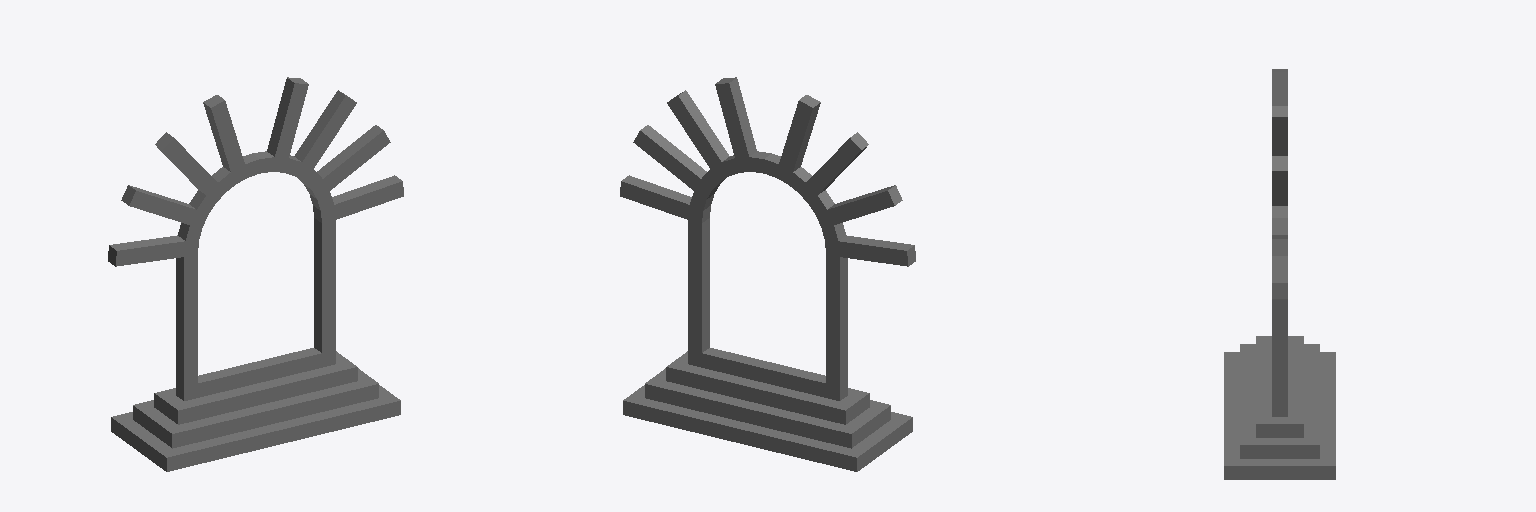
Rendered from Portal.obj.
3 renders of one model, left to right at view 1: azimuth 30°, elevation 25°; view 2: azimuth 150°, elevation 25°; view 3: azimuth 270°, elevation 25°, orthographic.
Parts seen in each view (by area): view 1: Mesh_Cube.001; view 2: Mesh_Cube.001; view 3: Mesh_Cube.001.
Part boxes in pixels (bbox=[...]): Mesh_Cube.001: bbox=[108, 77, 403, 471]; Mesh_Cube.001: bbox=[620, 77, 915, 471]; Mesh_Cube.001: bbox=[1224, 69, 1335, 479].
Size of the model in its own units: 4.19 by 4.64 by 1.4.